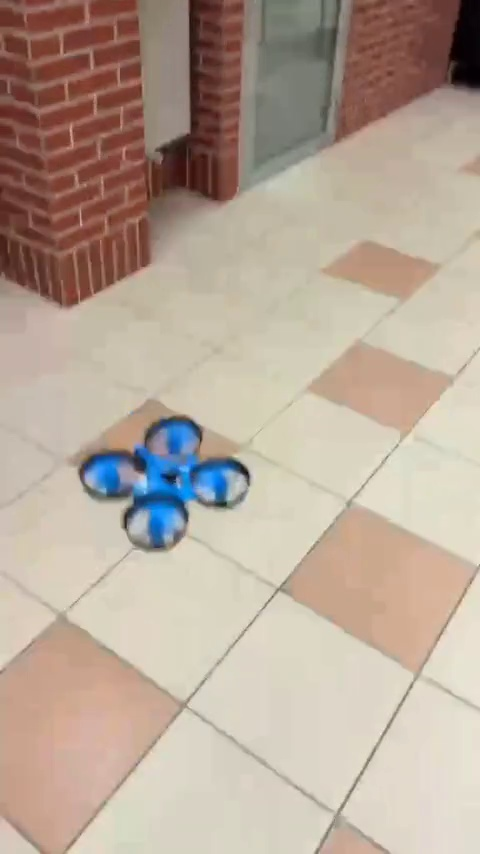drone: (81, 417, 249, 548)
